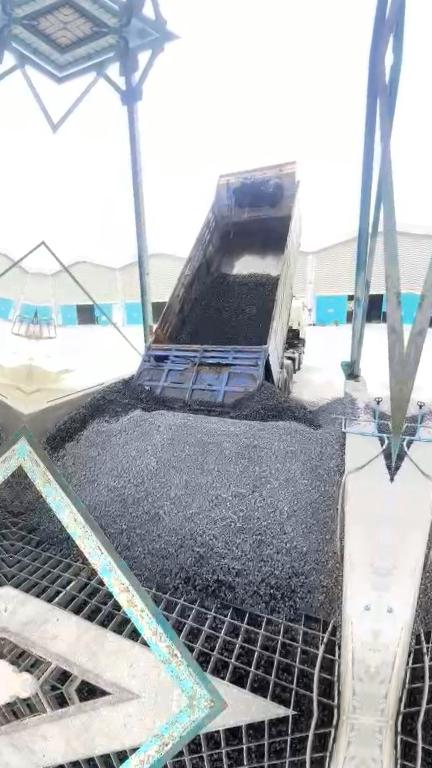gravel: (37, 373, 355, 627), (16, 460, 83, 558), (381, 436, 392, 483)
sand: (26, 362, 92, 413)
